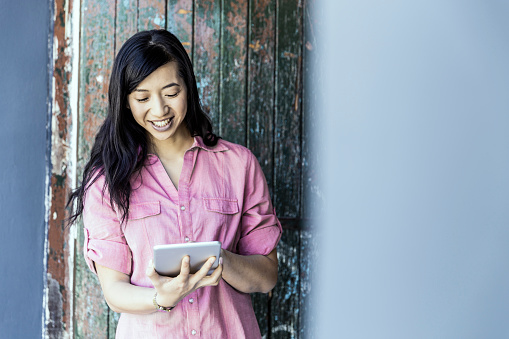em pe: (62, 37, 286, 339)
